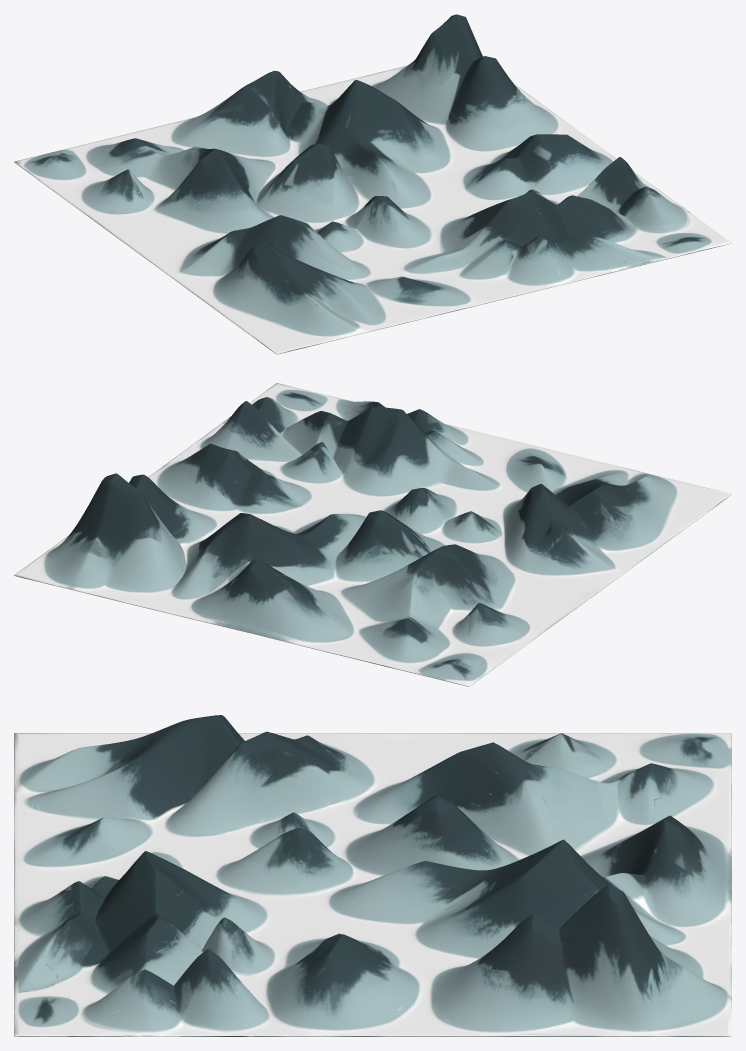
File: mountain_raw.glb
The picture shows the model from 3 angles, top to bottom: view 1: azimuth 30°, elevation 25°; view 2: azimuth 150°, elevation 25°; view 3: azimuth 270°, elevation 25°; orthographic projection. The views are drawn at different scales.
Parts seen in each view (by area): view 1: node_0; view 2: node_0; view 3: node_0.
Part boxes in pixels (left/top/right/bottom): node_0: left=14, top=14, right=731, bottom=354; node_0: left=14, top=383, right=731, bottom=686; node_0: left=14, top=715, right=731, bottom=1036.
Size of the model in its own units: 0.8425 by 0.1484 by 0.8428.
Materials: 1 (1 with a texture image).
